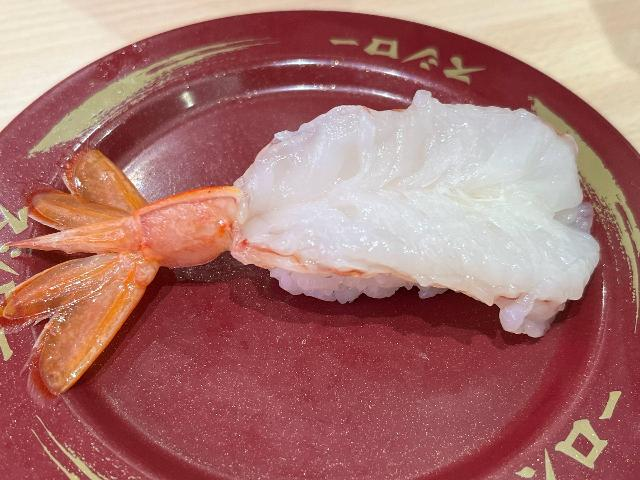janred: (3, 41, 640, 474)
